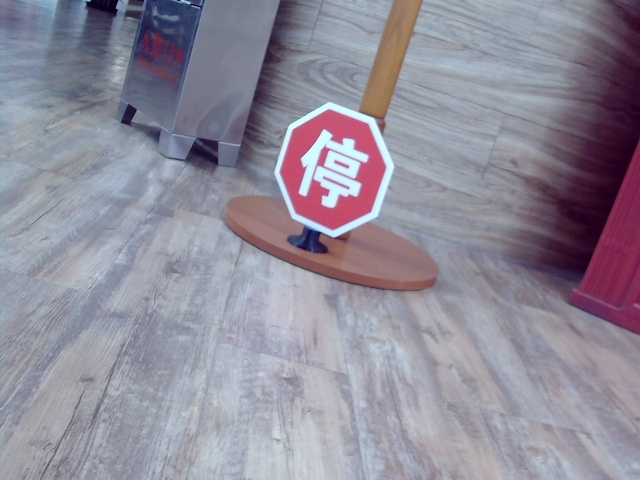stop: (298, 124, 364, 208)
